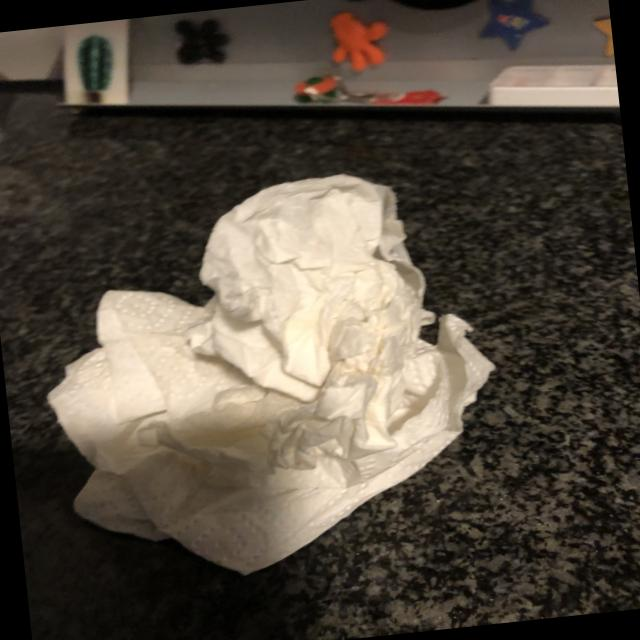organic waste: (18, 154, 518, 594)
